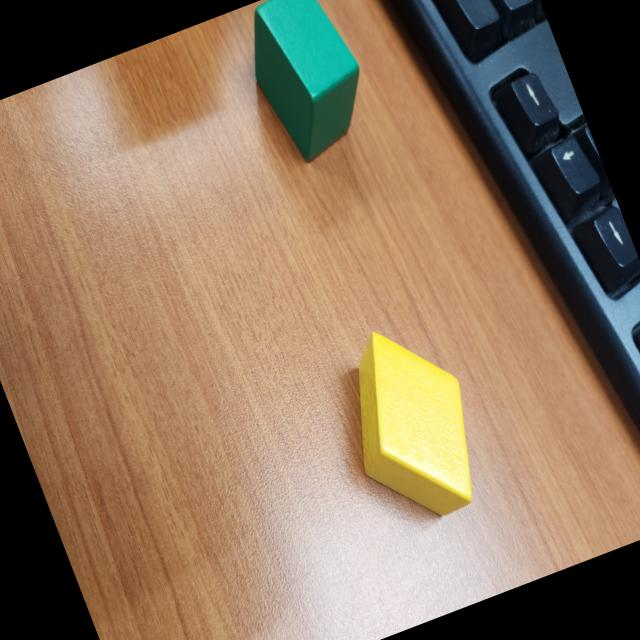green: (255, 0, 359, 161)
yellow: (357, 332, 471, 517)
